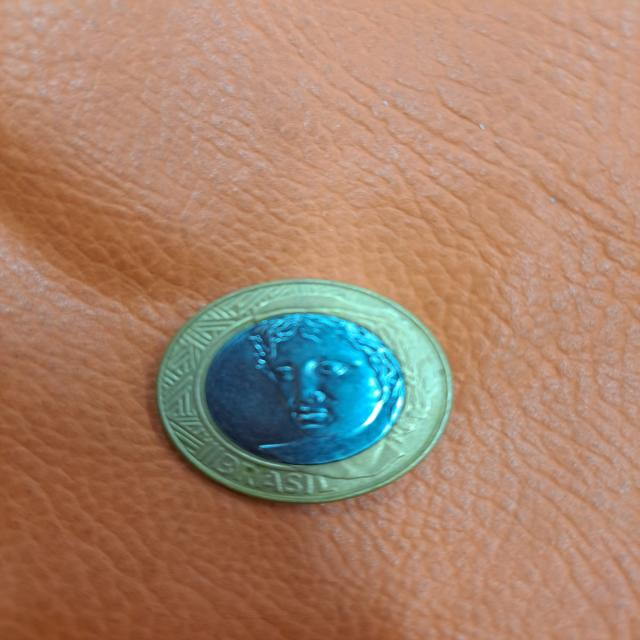1 real: (136, 268, 483, 510)
